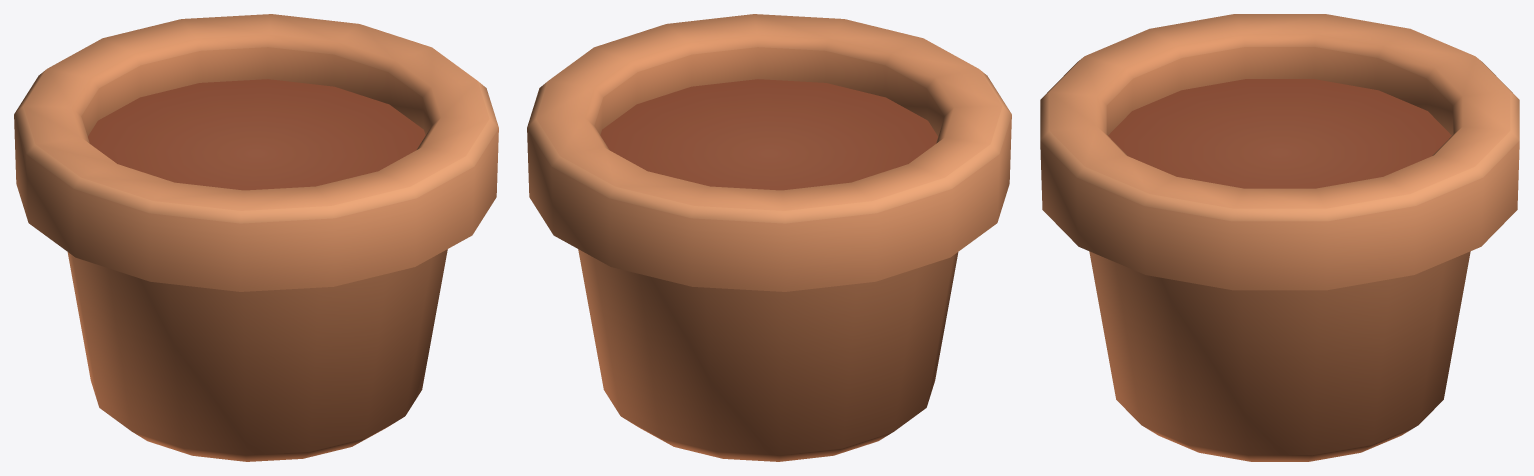
Rendered from large-pot.glb.
The picture shows the model from 3 angles, left to right: view 1: azimuth 30°, elevation 25°; view 2: azimuth 150°, elevation 25°; view 3: azimuth 270°, elevation 25°; orthographic projection.
Visible parts, largest first — view 1: pot_A_large; view 2: pot_A_large; view 3: pot_A_large.
Part boxes in pixels (bbox=[...]): pot_A_large: bbox=[14, 14, 498, 461]; pot_A_large: bbox=[527, 14, 1011, 461]; pot_A_large: bbox=[1040, 14, 1519, 461].
Bounding box in the file's own units: 1.5 × 1 × 1.5.
Materials: 1 (1 with a texture image).
